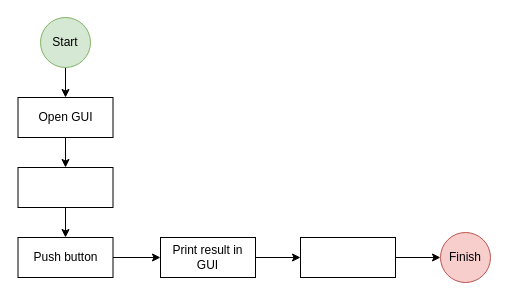
This 508x300 diagram has some shape labels left out. The shapes that lost their labels are listed below. From the top down, each one's centre as x and y in pixels, then its label:
At point 65,187: "Insert artist name".
At point 348,257: "Write in CSV".
